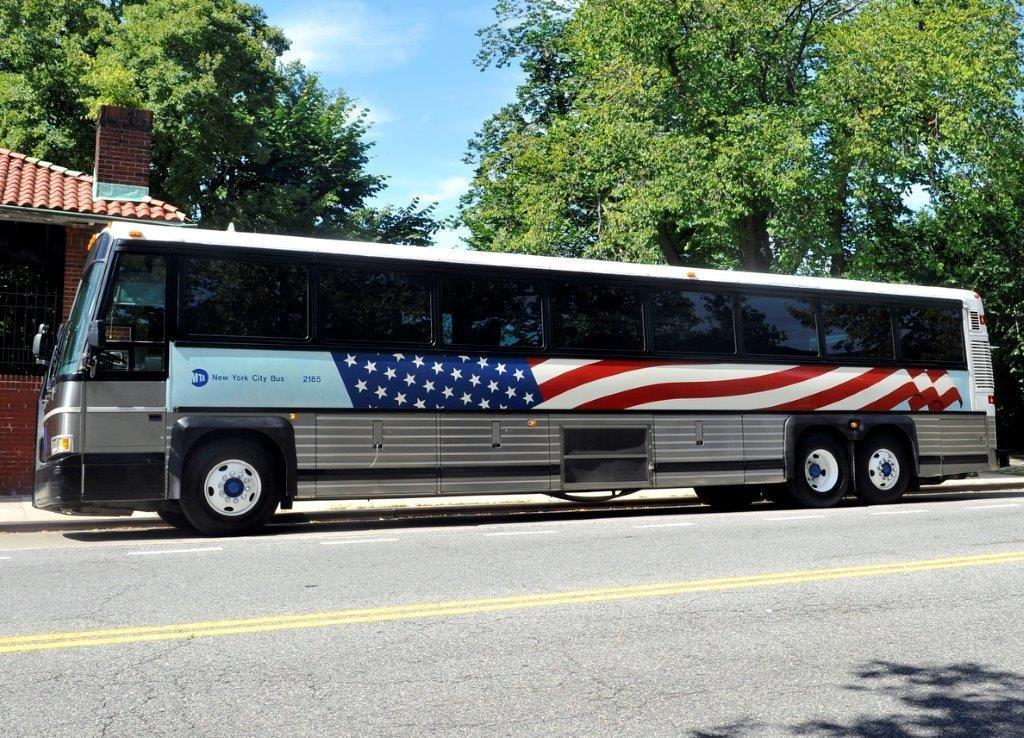Bus: (35, 222, 1002, 536)
